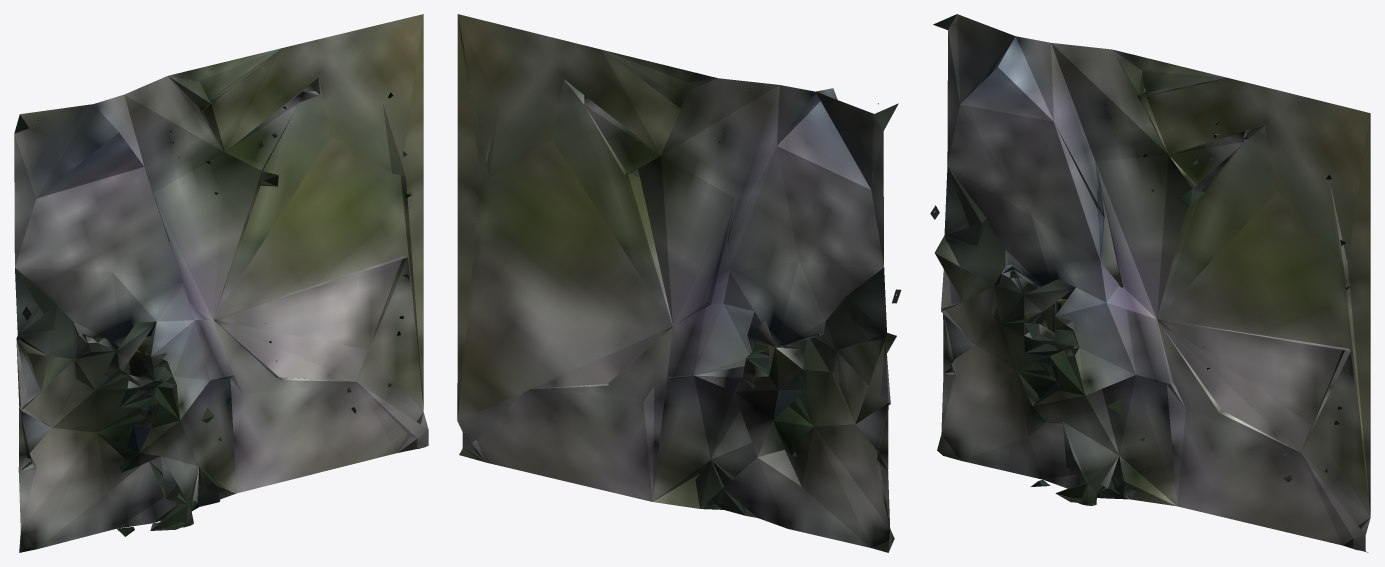
The model's file is Tile_+032_+023_L13.obj.
3 views of the same model, side by side, from view 1: azimuth 30°, elevation 25°; view 2: azimuth 150°, elevation 25°; view 3: azimuth 330°, elevation 25° (orthographic). The views are drawn at different scales.
Bounding box in the file's own units: 250 × 250 × 33.53.
1 material, 1 textured.
